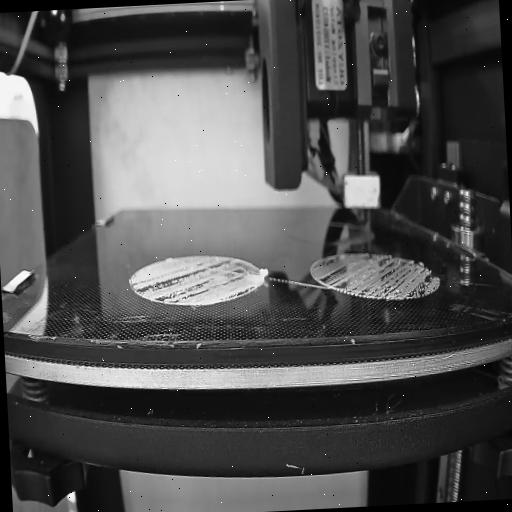under_extrusion: (128, 256, 259, 308), (364, 254, 439, 306), (309, 253, 351, 296)
